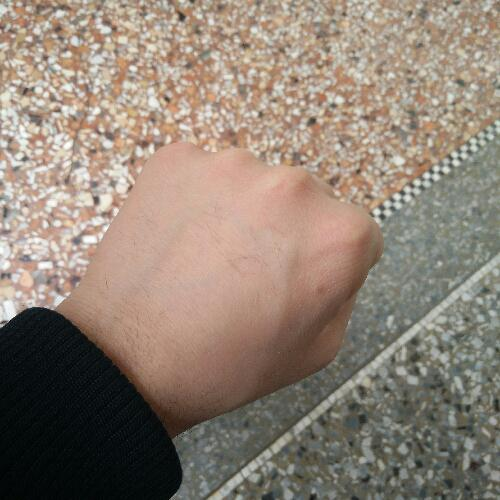rock: (56, 136, 389, 438)
